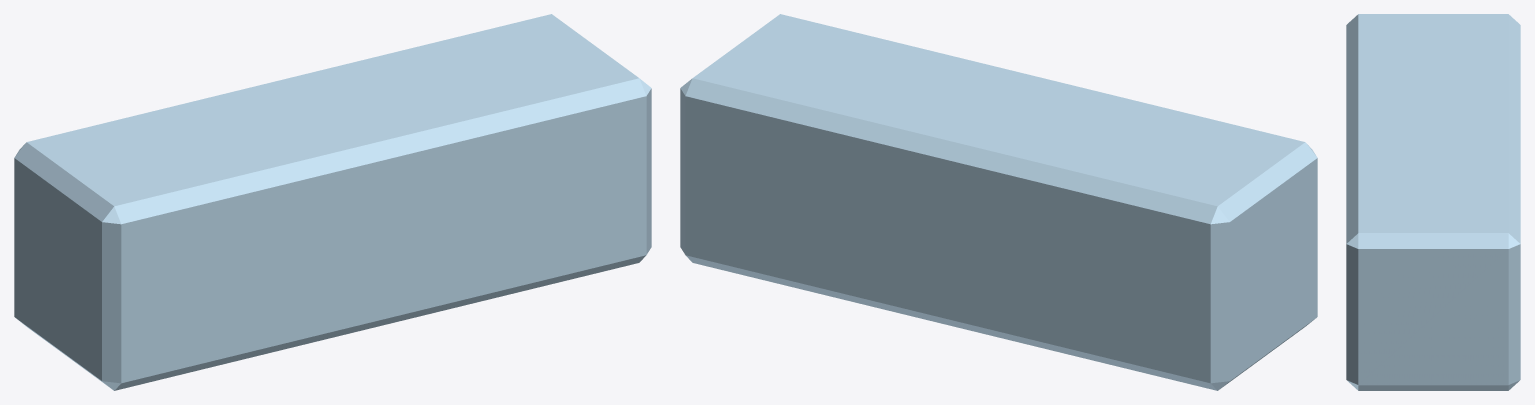
The model's file is R4B_Beam3.glb.
3 renders of one model, left to right at view 1: azimuth 30°, elevation 25°; view 2: azimuth 150°, elevation 25°; view 3: azimuth 270°, elevation 25°, orthographic. The views are drawn at different scales.
Visible parts, largest first — view 1: R4B_Beam3; view 2: R4B_Beam3; view 3: R4B_Beam3.
Boxes of the visible parts, x1,y1,x2,y2 form: R4B_Beam3: [14, 14, 651, 390]; R4B_Beam3: [680, 14, 1317, 390]; R4B_Beam3: [1346, 14, 1520, 390].
Bounding box in the file's own units: 1.62 × 0.52 × 0.52.
